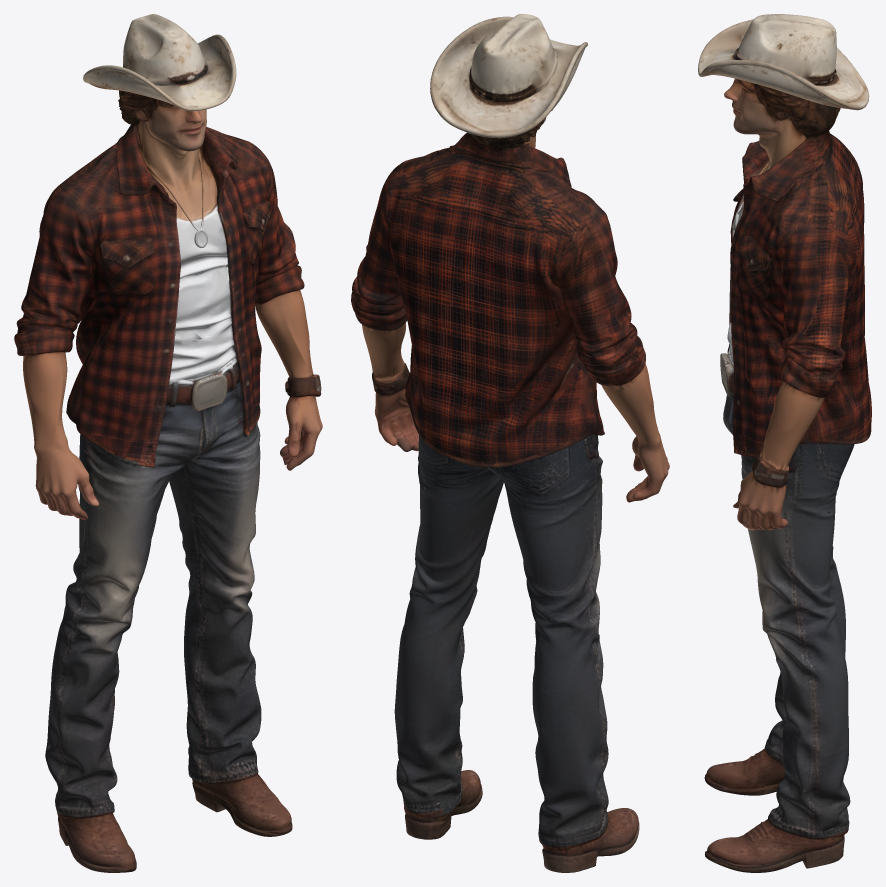
File: bkf-outlaw-athlete-v1.glb
3 views of the same model, side by side, from view 1: azimuth 30°, elevation 25°; view 2: azimuth 150°, elevation 25°; view 3: azimuth 270°, elevation 25° (orthographic).
Visible parts, largest first — view 1: node_0; view 2: node_0; view 3: node_0.
Part boxes in pixels (left/top/right/bottom): node_0: left=14, top=14, right=322, bottom=872; node_0: left=351, top=14, right=669, bottom=872; node_0: left=698, top=14, right=871, bottom=872.
Bounding box in the file's own units: 0.4286 × 1.16 × 0.2265.
1 material, 1 textured.
